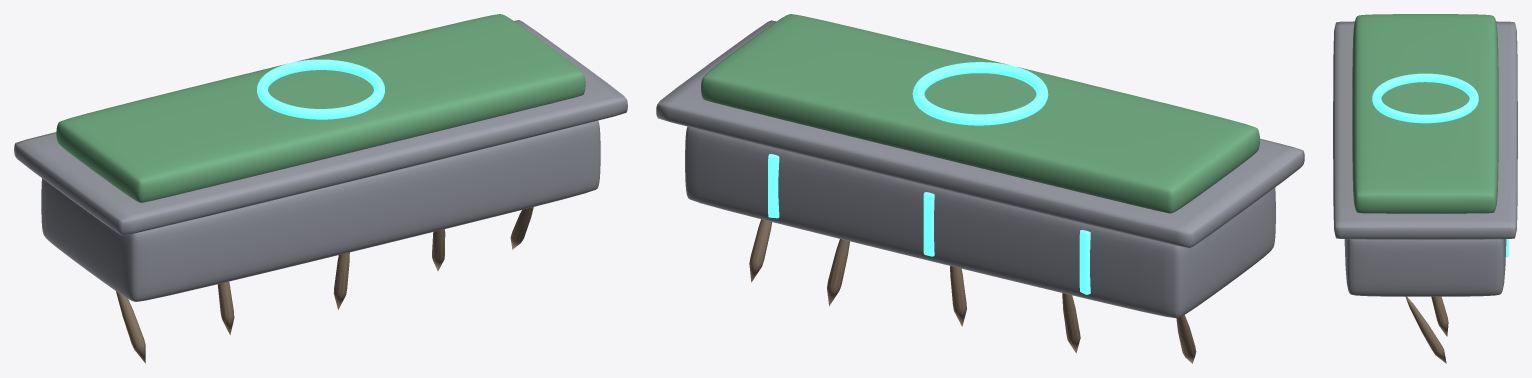
File: mossy_platform.glb
3 views of the same model, side by side, from view 1: azimuth 30°, elevation 25°; view 2: azimuth 150°, elevation 25°; view 3: azimuth 270°, elevation 25° (orthographic). The views are drawn at different scales.
Visible parts, largest first — view 1: moss_cap, ledge_slab, ledge_lip, rune_ring, root_0; view 2: moss_cap, ledge_slab, ledge_lip, root_0, rune_ring, rune_vein_0, rune_vein_1, rune_vein_2; view 3: moss_cap, ledge_lip, ledge_slab, rune_ring, root_0.
Part boxes in pixels (bbox=[...]): moss_cap: bbox=[56, 14, 585, 202]; ledge_slab: bbox=[41, 120, 600, 301]; ledge_lip: bbox=[14, 20, 627, 235]; rune_ring: bbox=[257, 59, 384, 119]; root_0: bbox=[116, 207, 533, 363]; moss_cap: bbox=[701, 14, 1259, 213]; ledge_slab: bbox=[685, 126, 1275, 318]; ledge_lip: bbox=[656, 20, 1304, 247]; root_0: bbox=[749, 219, 1196, 363]; rune_ring: bbox=[912, 62, 1048, 125]; rune_vein_0: bbox=[1079, 230, 1090, 294]; rune_vein_1: bbox=[923, 192, 934, 256]; rune_vein_2: bbox=[768, 154, 779, 218]; moss_cap: bbox=[1352, 14, 1498, 213]; ledge_lip: bbox=[1333, 21, 1517, 239]; ledge_slab: bbox=[1344, 239, 1506, 296]; rune_ring: bbox=[1372, 73, 1478, 123]; root_0: bbox=[1405, 296, 1448, 363].
Bounding box in the file's own units: 4.5 × 1.94 × 1.7.
